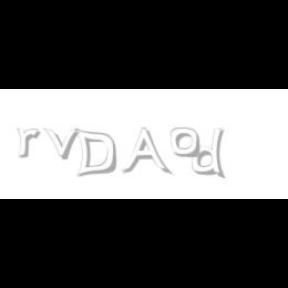A: (121, 128, 169, 176)
D: (74, 128, 116, 178)
d: (192, 128, 228, 180)
o: (171, 128, 200, 158)
r: (16, 128, 44, 158)
v: (43, 128, 83, 160)
